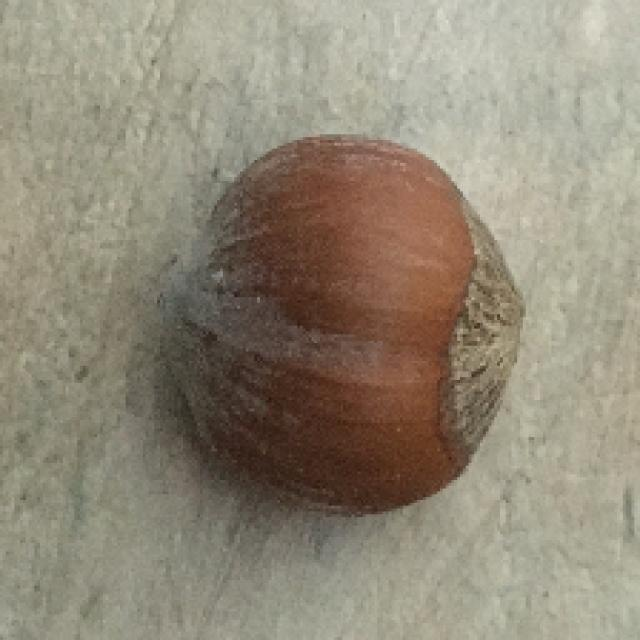qualityHazelnut: (152, 133, 538, 520)
